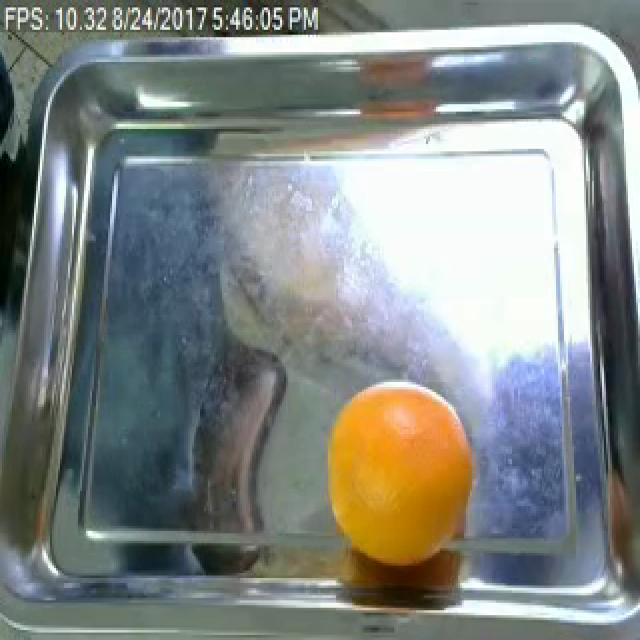Fruit: (326, 382, 482, 573)
